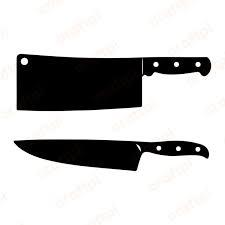Knife: (16, 53, 211, 111), (13, 138, 209, 171)
